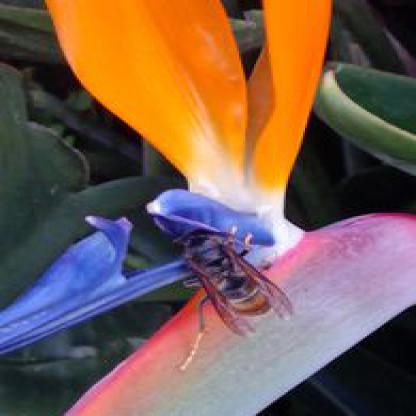Asian Hornet: (166, 221, 300, 337)
